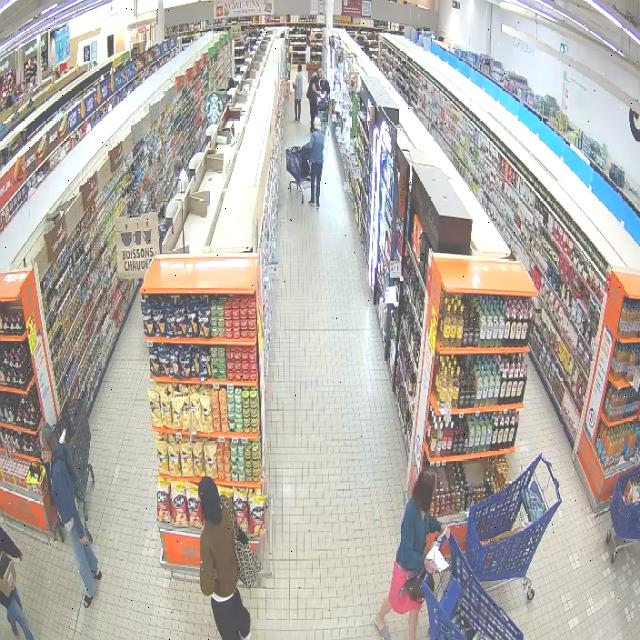bags: (405, 569, 434, 603), (0, 552, 16, 596)
hands: (424, 559, 436, 574), (80, 536, 88, 546), (444, 526, 449, 540), (19, 551, 22, 560)
person: (375, 468, 449, 639), (40, 426, 101, 607), (199, 477, 250, 639), (304, 117, 324, 207), (0, 587, 34, 639), (174, 158, 189, 194)
